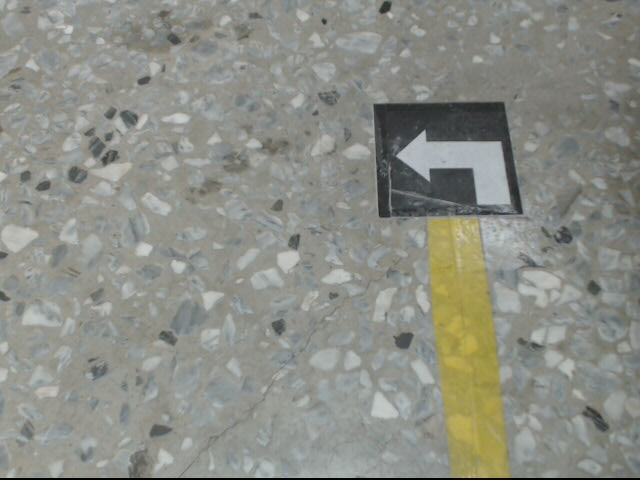left: (374, 100, 526, 218)
